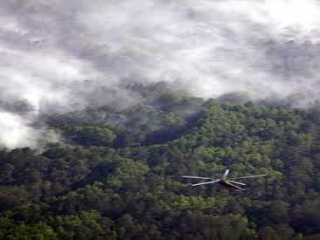smoke: (3, 74, 77, 154)
